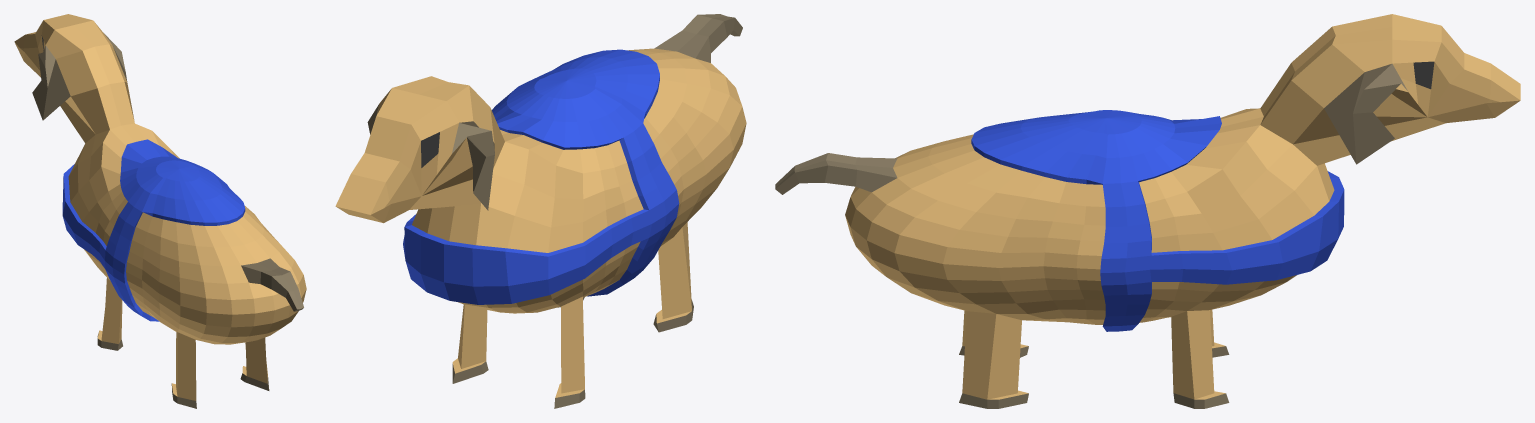
The model's file is dog_2_fbx.fbx.
The picture shows the model from 3 angles, left to right: view 1: azimuth 30°, elevation 25°; view 2: azimuth 150°, elevation 25°; view 3: azimuth 270°, elevation 25°; orthographic projection. The views are drawn at different scales.
Parts seen in each view (by area): view 1: Sphere; view 2: Sphere; view 3: Sphere.
Boxes of the visible parts, bbox=[...] form: Sphere: bbox=[14, 14, 306, 408]; Sphere: bbox=[335, 14, 746, 408]; Sphere: bbox=[775, 14, 1520, 408].
Bounding box in the file's own units: 27.35 × 49.16 × 94.35.
